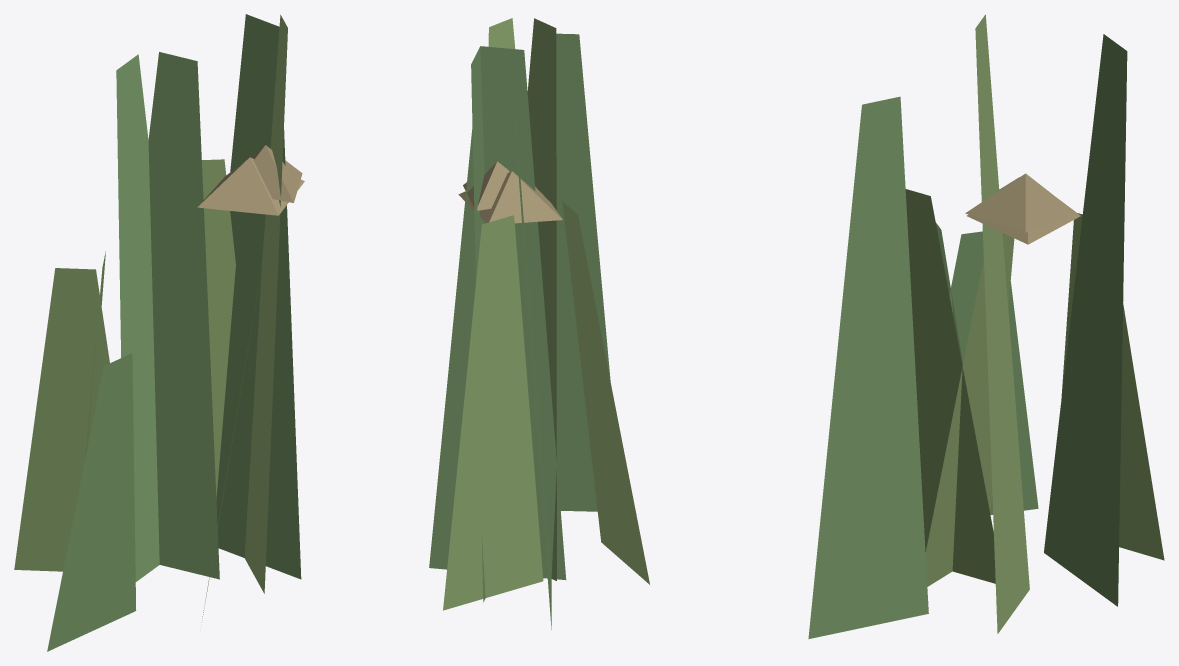
The model's file is shrub.trop.savanna_grass__spring.glb.
3 views of the same model, side by side, from view 1: azimuth 30°, elevation 25°; view 2: azimuth 150°, elevation 25°; view 3: azimuth 270°, elevation 25° (orthographic). The views are drawn at different scales.
Parts seen in each view (by area): view 1: shrub.trop.savanna_grass__spring; view 2: shrub.trop.savanna_grass__spring; view 3: shrub.trop.savanna_grass__spring.
Boxes of the visible parts, x1,y1,x2,y2 form: shrub.trop.savanna_grass__spring: [14, 14, 304, 651]; shrub.trop.savanna_grass__spring: [429, 18, 649, 629]; shrub.trop.savanna_grass__spring: [808, 14, 1164, 639].
Bounding box in the file's own units: 0.7467 × 1.26 × 0.6909.
